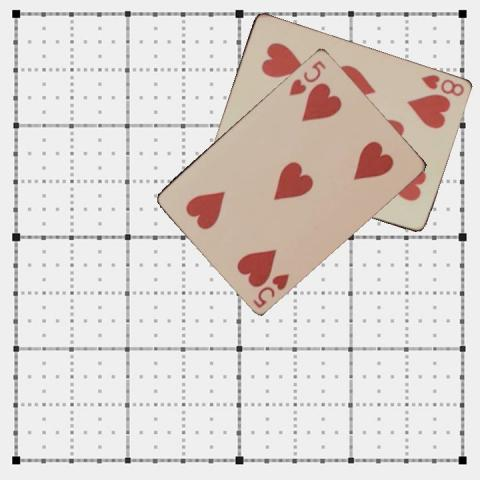5h: (286, 57, 328, 97), (250, 270, 291, 309)
8h: (418, 71, 466, 98)
